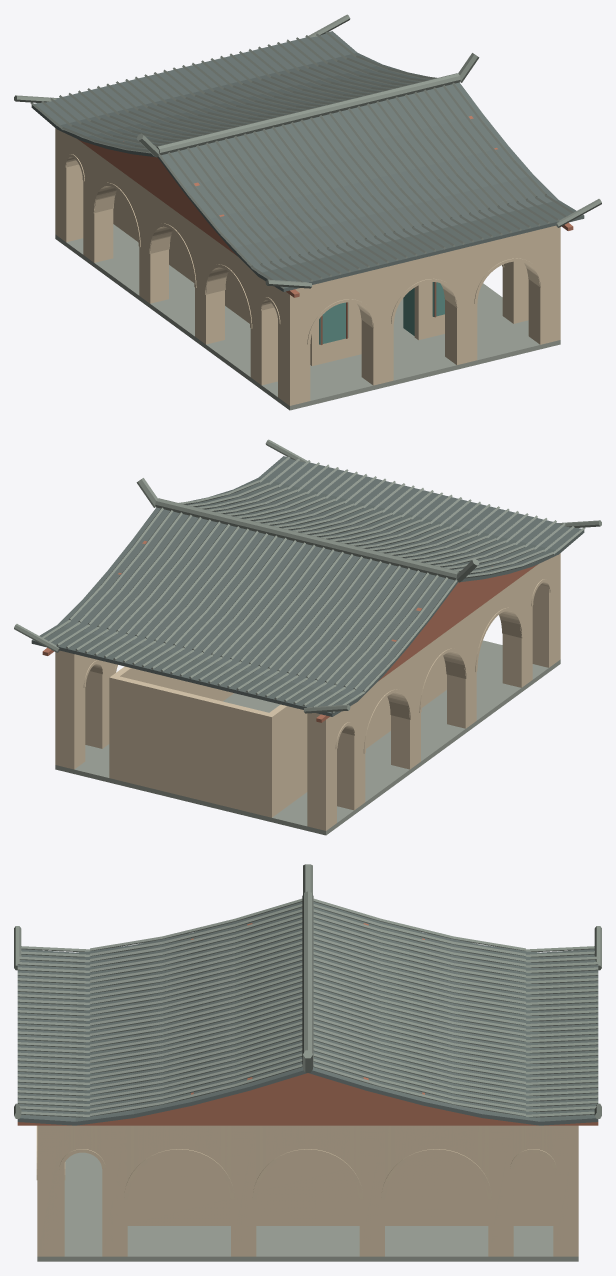
The model's file is bianzhou.glb.
3 renders of one model, top to bottom at view 1: azimuth 30°, elevation 25°; view 2: azimuth 150°, elevation 25°; view 3: azimuth 270°, elevation 25°, orthographic. The views are drawn at different scales.
Visible parts, largest first — view 1: bianzhou; view 2: bianzhou; view 3: bianzhou.
Boxes of the visible parts, x1,y1,x2,y2 form: bianzhou: (14,14,601,410); bianzhou: (14,439,601,835); bianzhou: (14,864,601,1261).
Size of the model in its own units: 12.58 by 6.98 by 16.3.
